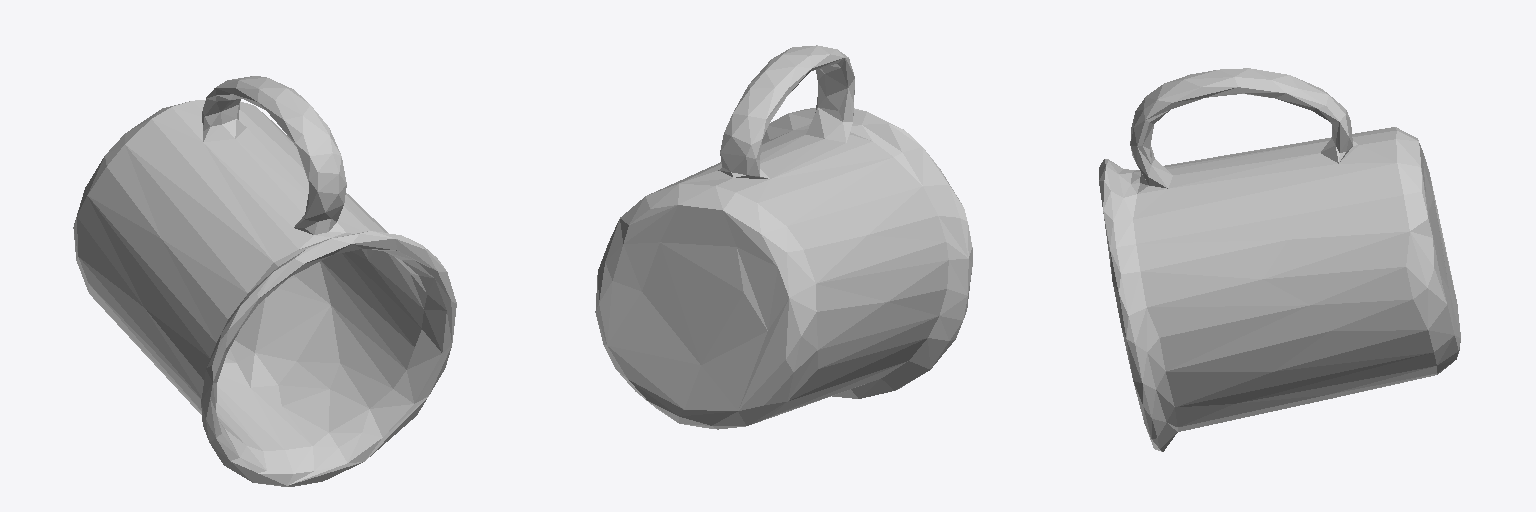
File: mug3.obj
The picture shows the model from 3 angles: view 1: azimuth 30°, elevation 25°; view 2: azimuth 150°, elevation 25°; view 3: azimuth 270°, elevation 25°; orthographic projection.
Visible parts, largest first — view 1: RedCup_800_tex; view 2: RedCup_800_tex; view 3: RedCup_800_tex.
Part boxes in pixels (x1,y1,x2,y2): RedCup_800_tex: (73, 76, 456, 486); RedCup_800_tex: (595, 45, 972, 429); RedCup_800_tex: (1099, 68, 1460, 451).
Bounding box in the file's own units: 0.0366 × 0.0501 × 0.045.